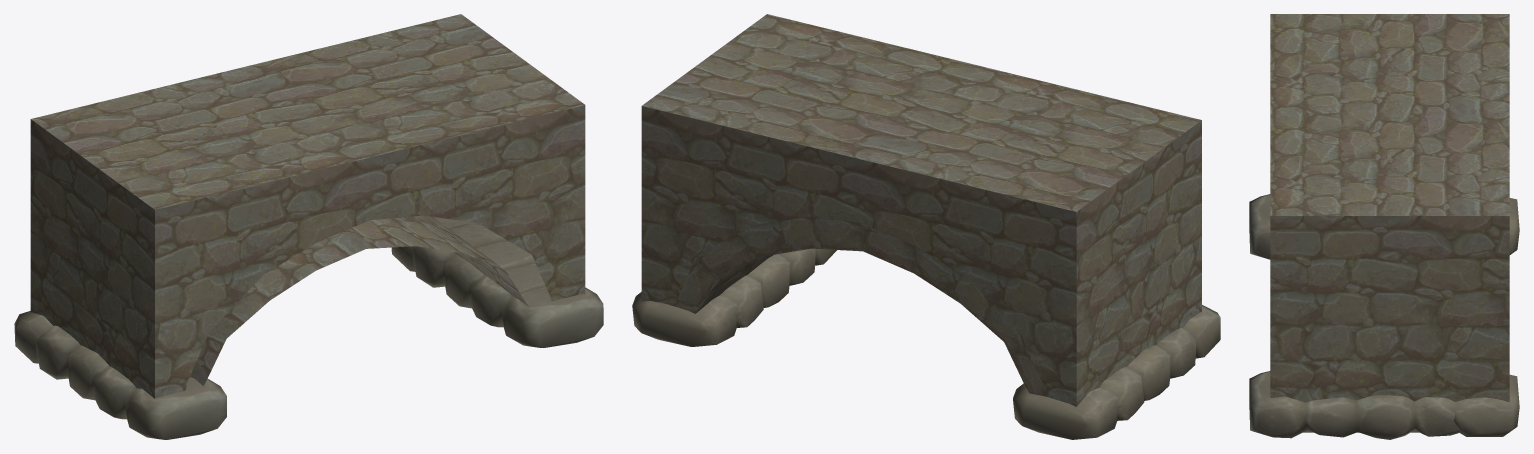
The model's file is SM_FW01_Ruins_Int_Ceiling_B_2x4_Corridor_01.fbx.
The picture shows the model from 3 angles, left to right: view 1: azimuth 30°, elevation 25°; view 2: azimuth 150°, elevation 25°; view 3: azimuth 270°, elevation 25°; orthographic projection. The views are drawn at different scales.
Parts seen in each view (by area): view 1: SM_FW01_Ruins_Int_Ceiling_B_2x4_Corridor_01, SM_FW01_Ruins_Int_Ceiling_B_2x4_Corridor_01_LOD0; view 2: SM_FW01_Ruins_Int_Ceiling_B_2x4_Corridor_01, SM_FW01_Ruins_Int_Ceiling_B_2x4_Corridor_01_LOD0; view 3: SM_FW01_Ruins_Int_Ceiling_B_2x4_Corridor_01, SM_FW01_Ruins_Int_Ceiling_B_2x4_Corridor_01_LOD0.
Part boxes in pixels (<box>): SM_FW01_Ruins_Int_Ceiling_B_2x4_Corridor_01: <box>30,14,585,398</box>; SM_FW01_Ruins_Int_Ceiling_B_2x4_Corridor_01_LOD0: <box>14,216,603,439</box>; SM_FW01_Ruins_Int_Ceiling_B_2x4_Corridor_01: <box>641,14,1201,406</box>; SM_FW01_Ruins_Int_Ceiling_B_2x4_Corridor_01_LOD0: <box>632,248,1220,439</box>; SM_FW01_Ruins_Int_Ceiling_B_2x4_Corridor_01: <box>1270,14,1509,432</box>; SM_FW01_Ruins_Int_Ceiling_B_2x4_Corridor_01_LOD0: <box>1249,194,1519,439</box>.
Size of what is drawn, in the model's own units: 4.35 by 2.05 by 2.26.
